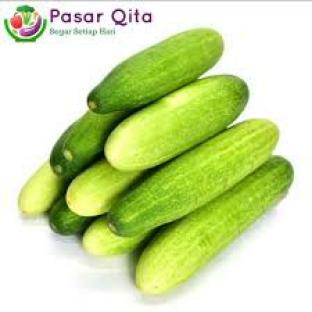Cucumber: (136, 157, 292, 293), (109, 120, 278, 235), (106, 75, 248, 170), (88, 28, 223, 113), (50, 111, 124, 178), (67, 160, 142, 216), (82, 217, 149, 256), (19, 163, 67, 214), (49, 197, 94, 235)
